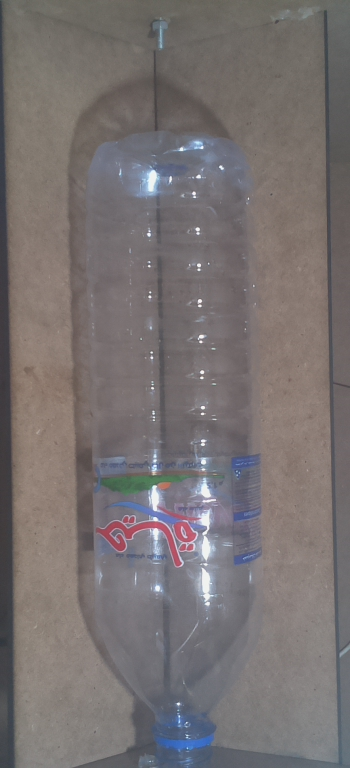Bouteille_1.5L: (77, 127, 267, 765)
